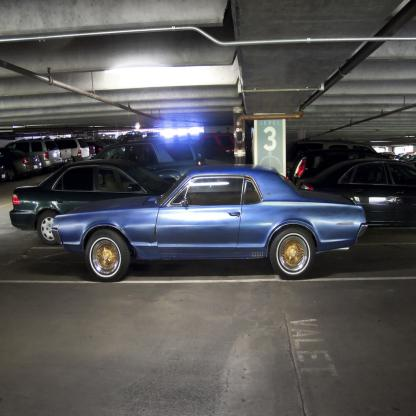Car: (0, 133, 416, 279)
